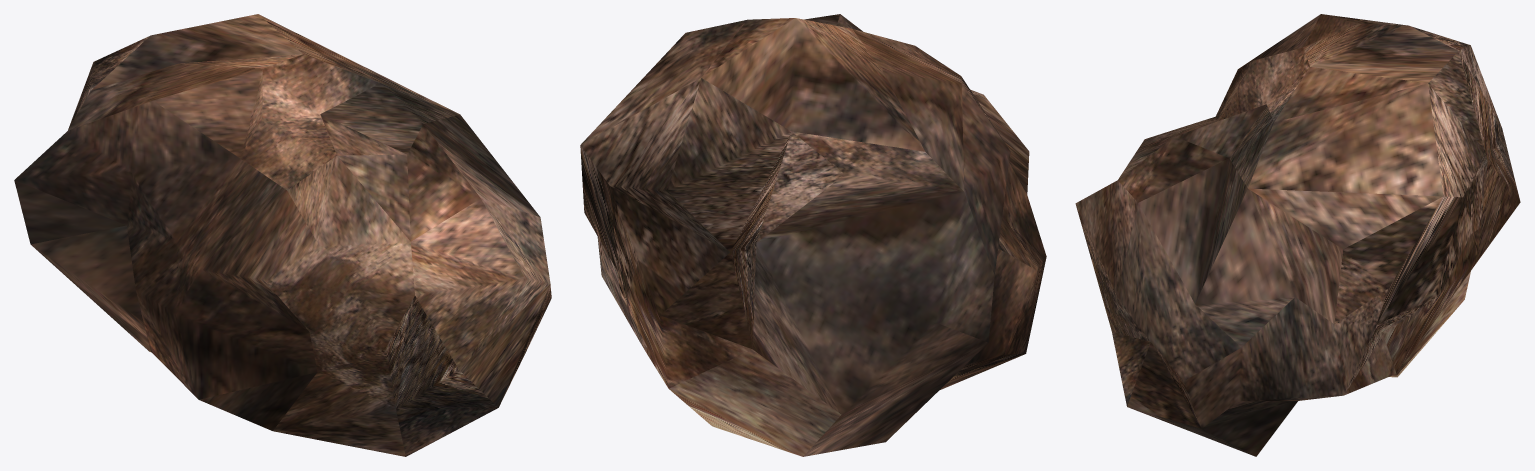
File: Asteroid 2.fbx
3 renders of one model, left to right at view 1: azimuth 30°, elevation 25°; view 2: azimuth 150°, elevation 25°; view 3: azimuth 270°, elevation 25°, orthographic. The views are drawn at different scales.
Visible parts, largest first — view 1: asteroid_12; view 2: asteroid_12; view 3: asteroid_12.
Part boxes in pixels (x1,y1,x2,y2): asteroid_12: (14,14,551,456); asteroid_12: (580,14,1046,456); asteroid_12: (1075,14,1520,456).
Size of the model in its own units: 104 by 86.32 by 100.
